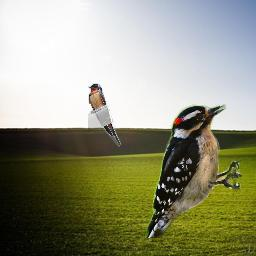Swallow: (88, 83, 121, 147)
Woodpecker: (146, 104, 242, 238)
